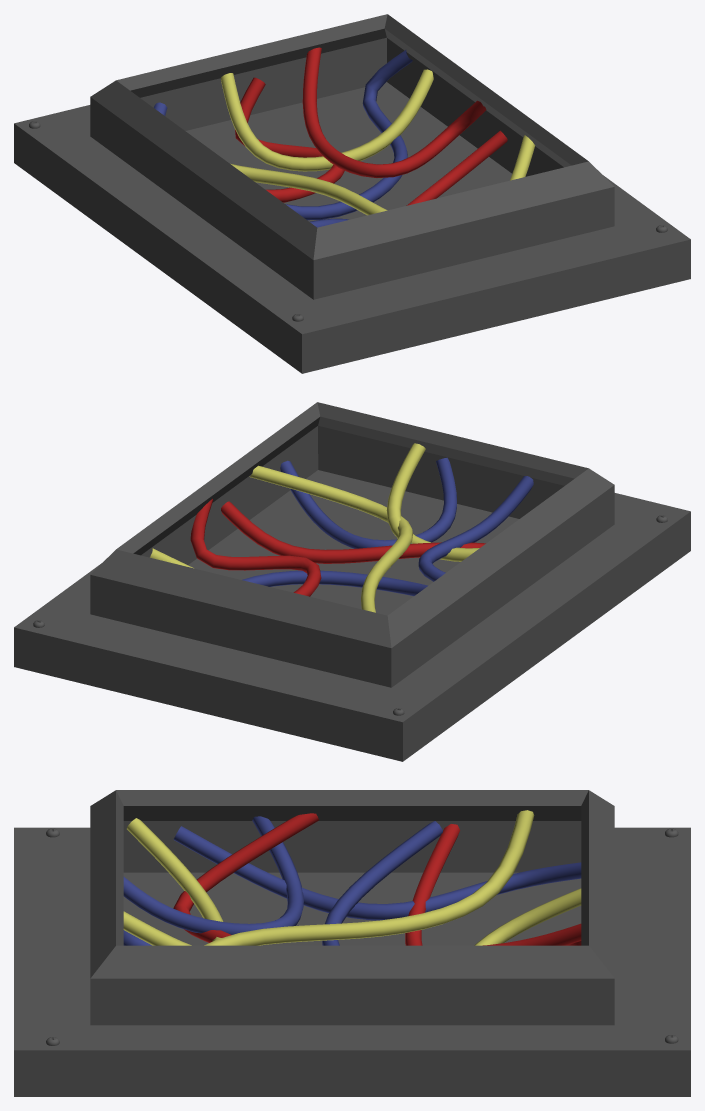
Rendered from Electric.fbx.
The picture shows the model from 3 angles, top to bottom: view 1: azimuth 30°, elevation 25°; view 2: azimuth 150°, elevation 25°; view 3: azimuth 270°, elevation 25°; orthographic projection. The views are drawn at different scales.
Parts seen in each view (by area): view 1: pCube1, sweep1, sweep5, sweep6, sweep2, sweep8, sweep3; view 2: pCube1, sweep2, sweep3, sweep4, sweep1, sweep9, sweep6, sweep10; view 3: pCube1, sweep2, sweep7, sweep9, sweep10, sweep3, sweep6, sweep8, sweep5, sweep1.
Part boxes in pixels (x1,y1,x2,y2): pCube1: [14, 14, 690, 373]; sweep1: [302, 47, 486, 177]; sweep5: [221, 69, 433, 171]; sweep6: [285, 50, 412, 220]; sweep2: [230, 135, 535, 215]; sweep8: [235, 77, 344, 202]; sweep3: [406, 130, 507, 205]; pCube1: [14, 402, 690, 761]; sweep2: [249, 465, 412, 612]; sweep3: [221, 501, 485, 563]; sweep4: [280, 457, 456, 548]; sweep1: [190, 499, 321, 596]; sweep9: [418, 476, 533, 581]; sweep6: [242, 570, 427, 596]; sweep10: [386, 443, 479, 561]; pCube1: [14, 790, 690, 1096]; sweep2: [204, 810, 534, 945]; sweep7: [173, 826, 581, 920]; sweep9: [123, 816, 303, 934]; sweep10: [123, 818, 223, 945]; sweep3: [173, 813, 318, 942]; sweep6: [322, 821, 442, 945]; sweep8: [405, 824, 581, 945]; sweep5: [474, 888, 581, 945]; sweep1: [483, 923, 581, 945].
Bounding box in the file's own units: 3.5 × 0.8623 × 4.5.
